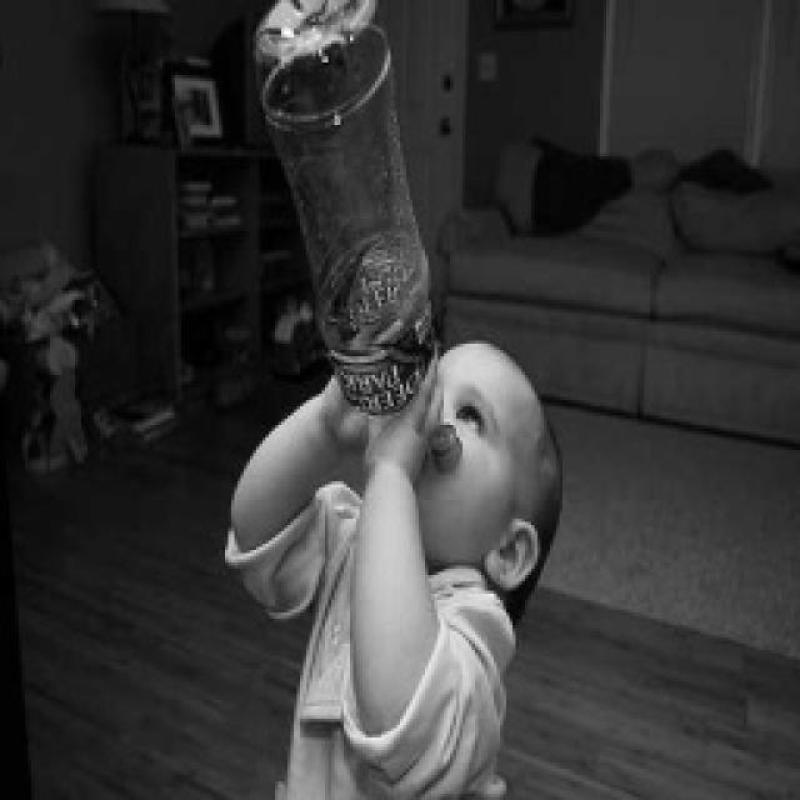botella: (252, 0, 462, 472)
